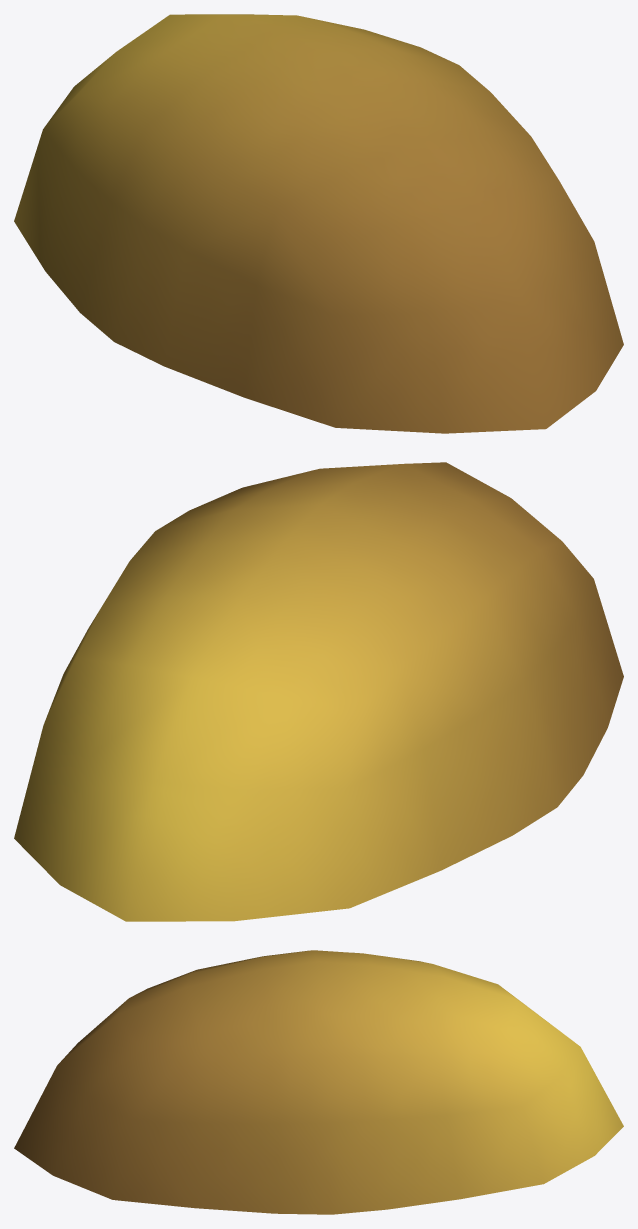
Rendered from Maize_0.fbx.
3 views of the same model, one above another, from view 1: azimuth 30°, elevation 25°; view 2: azimuth 150°, elevation 25°; view 3: azimuth 270°, elevation 25° (orthographic). The views are drawn at different scales.
Parts seen in each view (by area): view 1: Corn Stage 1_LOD0_0; view 2: Corn Stage 1_LOD0_0; view 3: Corn Stage 1_LOD0_0.
Part boxes in pixels (left/top/right/bottom): Corn Stage 1_LOD0_0: left=14, top=14, right=623, bottom=433; Corn Stage 1_LOD0_0: left=14, top=462, right=623, bottom=921; Corn Stage 1_LOD0_0: left=14, top=950, right=623, bottom=1214.
Size of the model in its own units: 6.27 by 3.33 by 10.38.
